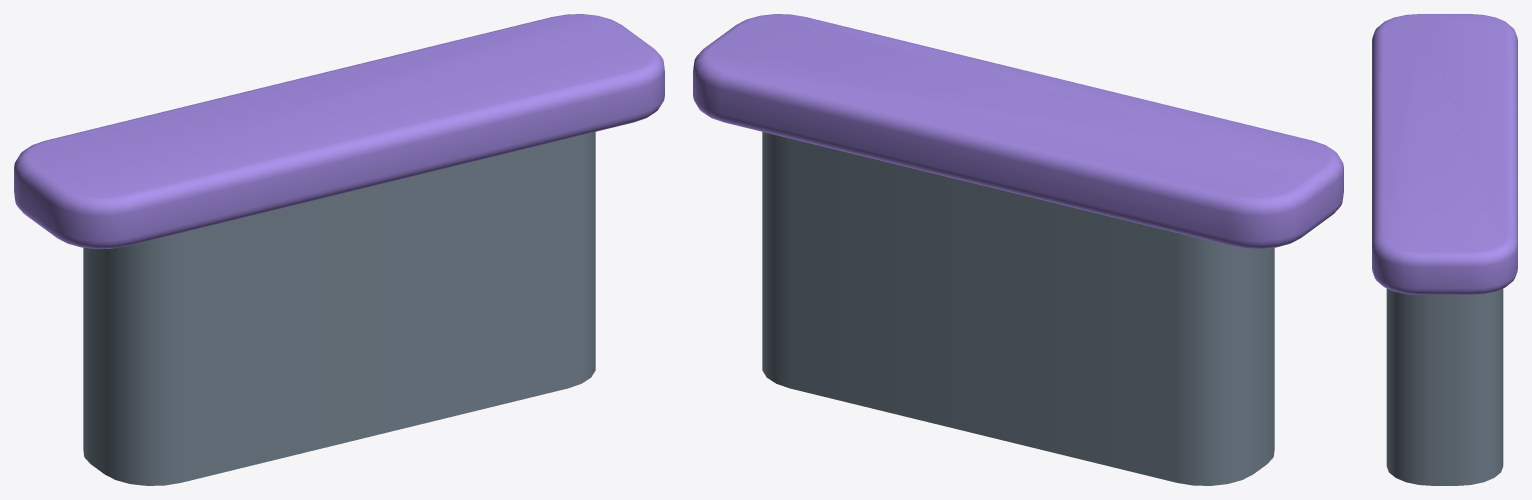
Rendered from Thin_Table.fbx.
3 renders of one model, left to right at view 1: azimuth 30°, elevation 25°; view 2: azimuth 150°, elevation 25°; view 3: azimuth 270°, elevation 25°, orthographic. The views are drawn at different scales.
Visible parts, largest first — view 1: Thin Table; view 2: Thin Table; view 3: Thin Table.
Part boxes in pixels (x1,y1,x2,y2): Thin Table: (14, 14, 664, 485); Thin Table: (693, 14, 1343, 485); Thin Table: (1372, 14, 1517, 485).
Bounding box in the file's own units: 250 × 120 × 62.5.
